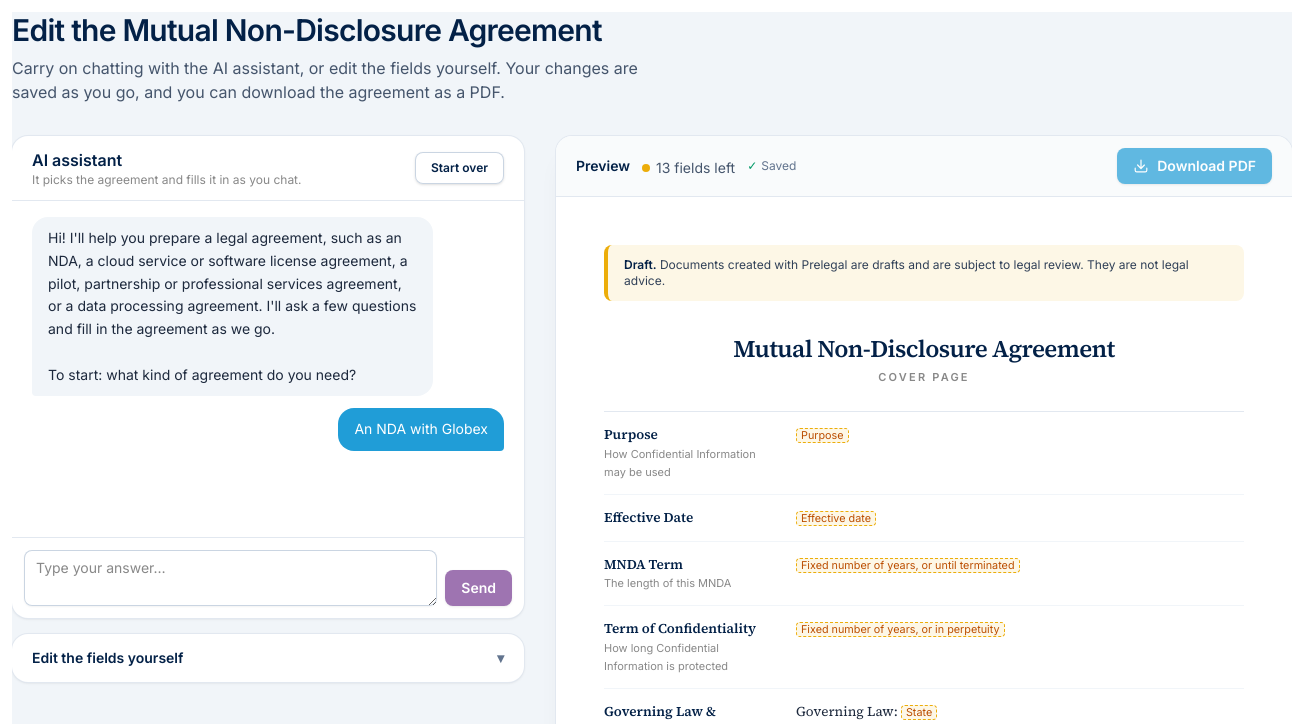
Scenario: DocumentCreator › carries on with a saved agreement and its conversation
This screenshot has width=1292, height=724.
Check: the heading "Edit the Mutual Non-Disclosure Agreement" is shown, box [12, 12, 684, 48]
Check: the text "An NDA with Globex" is shown, box [338, 408, 504, 451]
Type "Actually it's for our hosted software" into the text box named "Message" at [231, 578], box [24, 550, 437, 606]
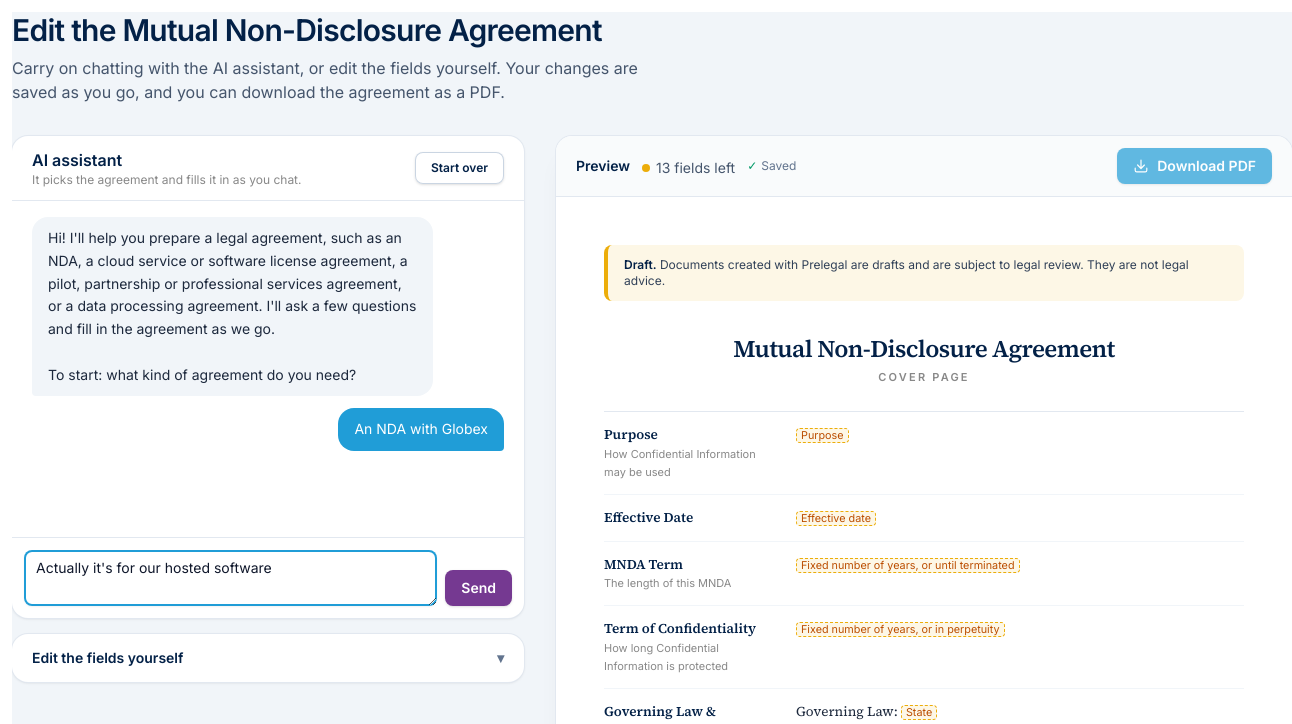
Press Enter
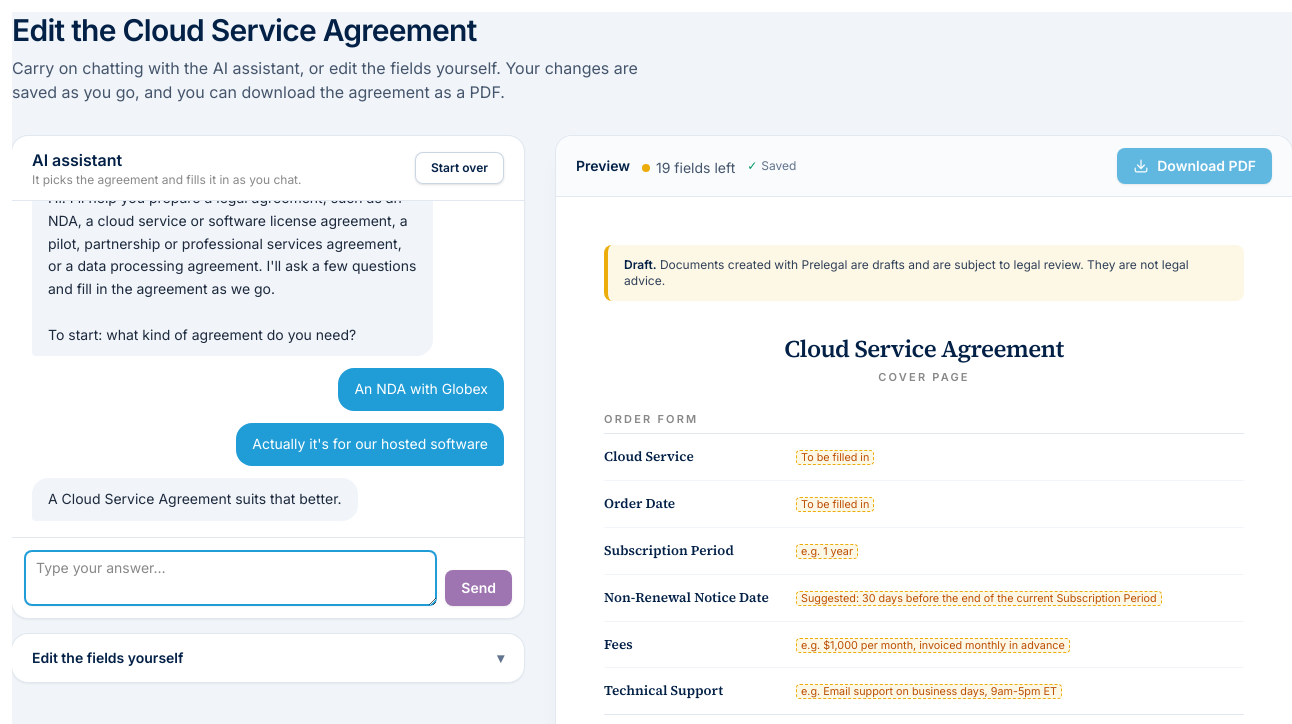
Check: the heading "Edit the Cloud Service Agreement" is shown, box [12, 12, 476, 48]
